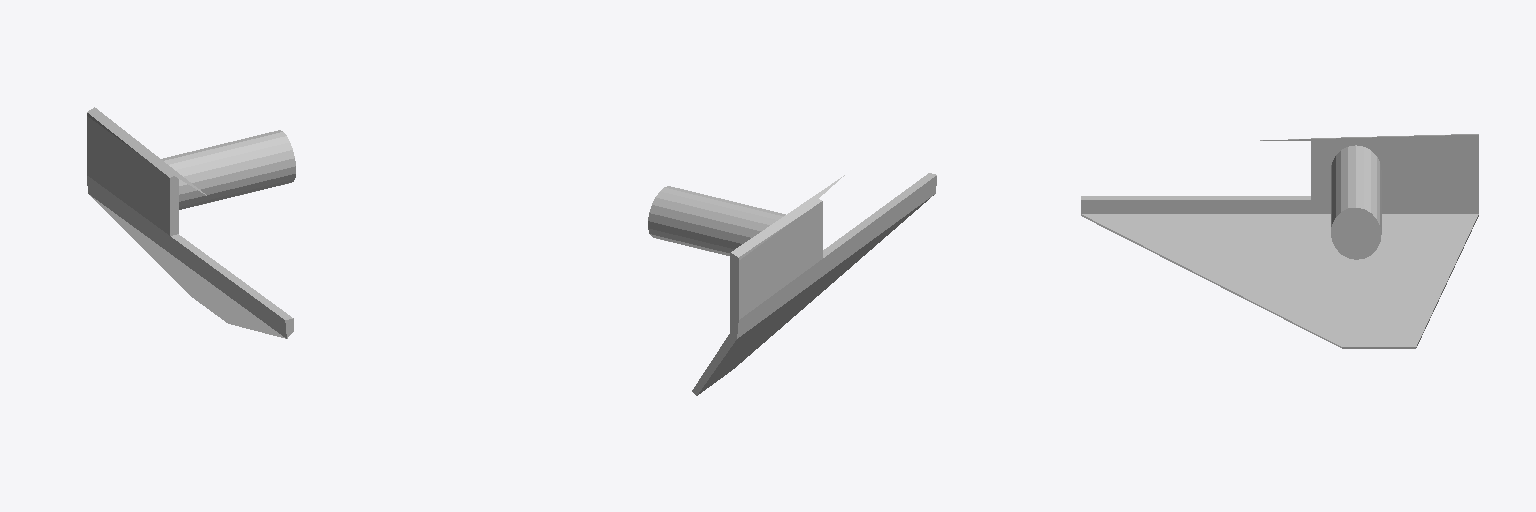
The model's file is vragfifth4.obj.
The picture shows the model from 3 angles: view 1: azimuth 30°, elevation 25°; view 2: azimuth 150°, elevation 25°; view 3: azimuth 270°, elevation 25°; orthographic projection.
Visible parts, largest first — view 1: vrag.002; view 2: vrag.002; view 3: vrag.002.
Boxes of the visible parts, <box> form: vrag.002: <box>87,107,295,338</box>; vrag.002: <box>648,173,936,395</box>; vrag.002: <box>1081,134,1478,348</box>.
Bounding box in the file's own units: 4.52 × 5.62 × 11.09.